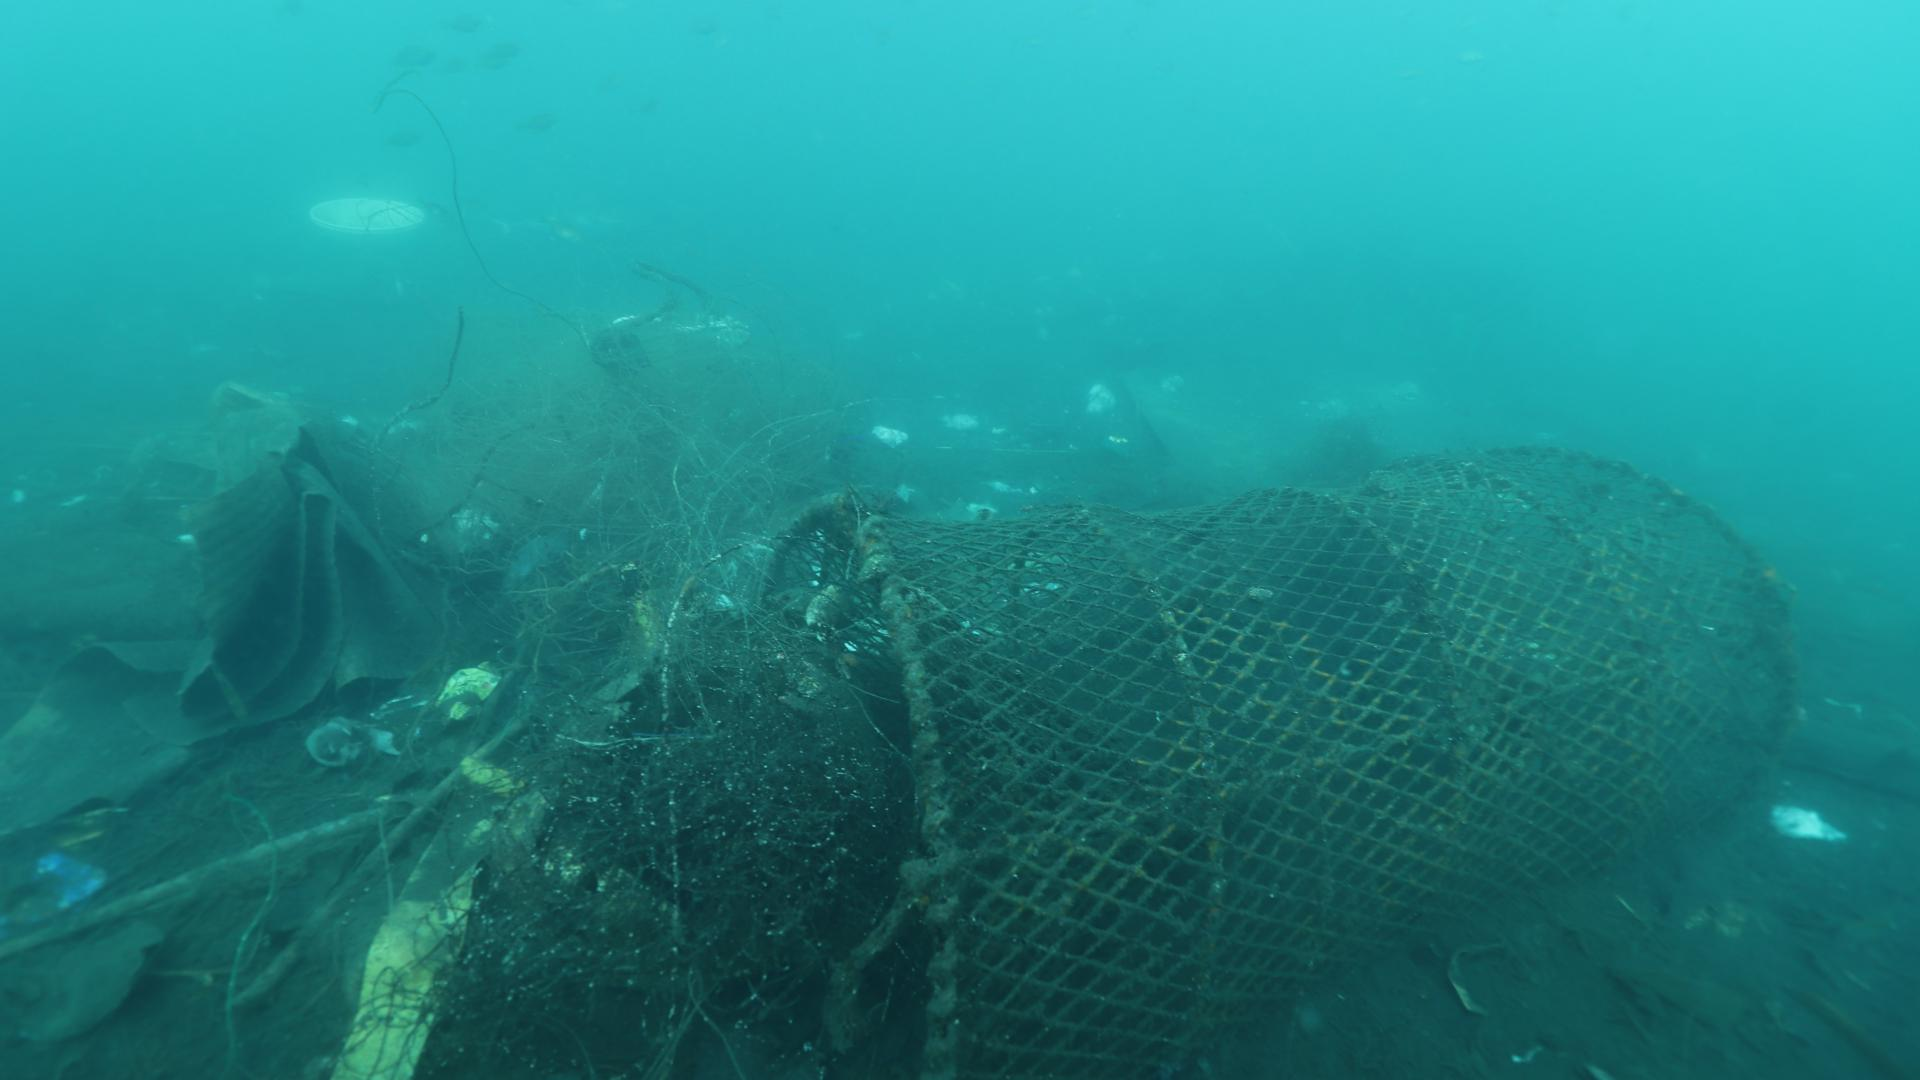spring fish trap: (752, 443, 1800, 1080)
